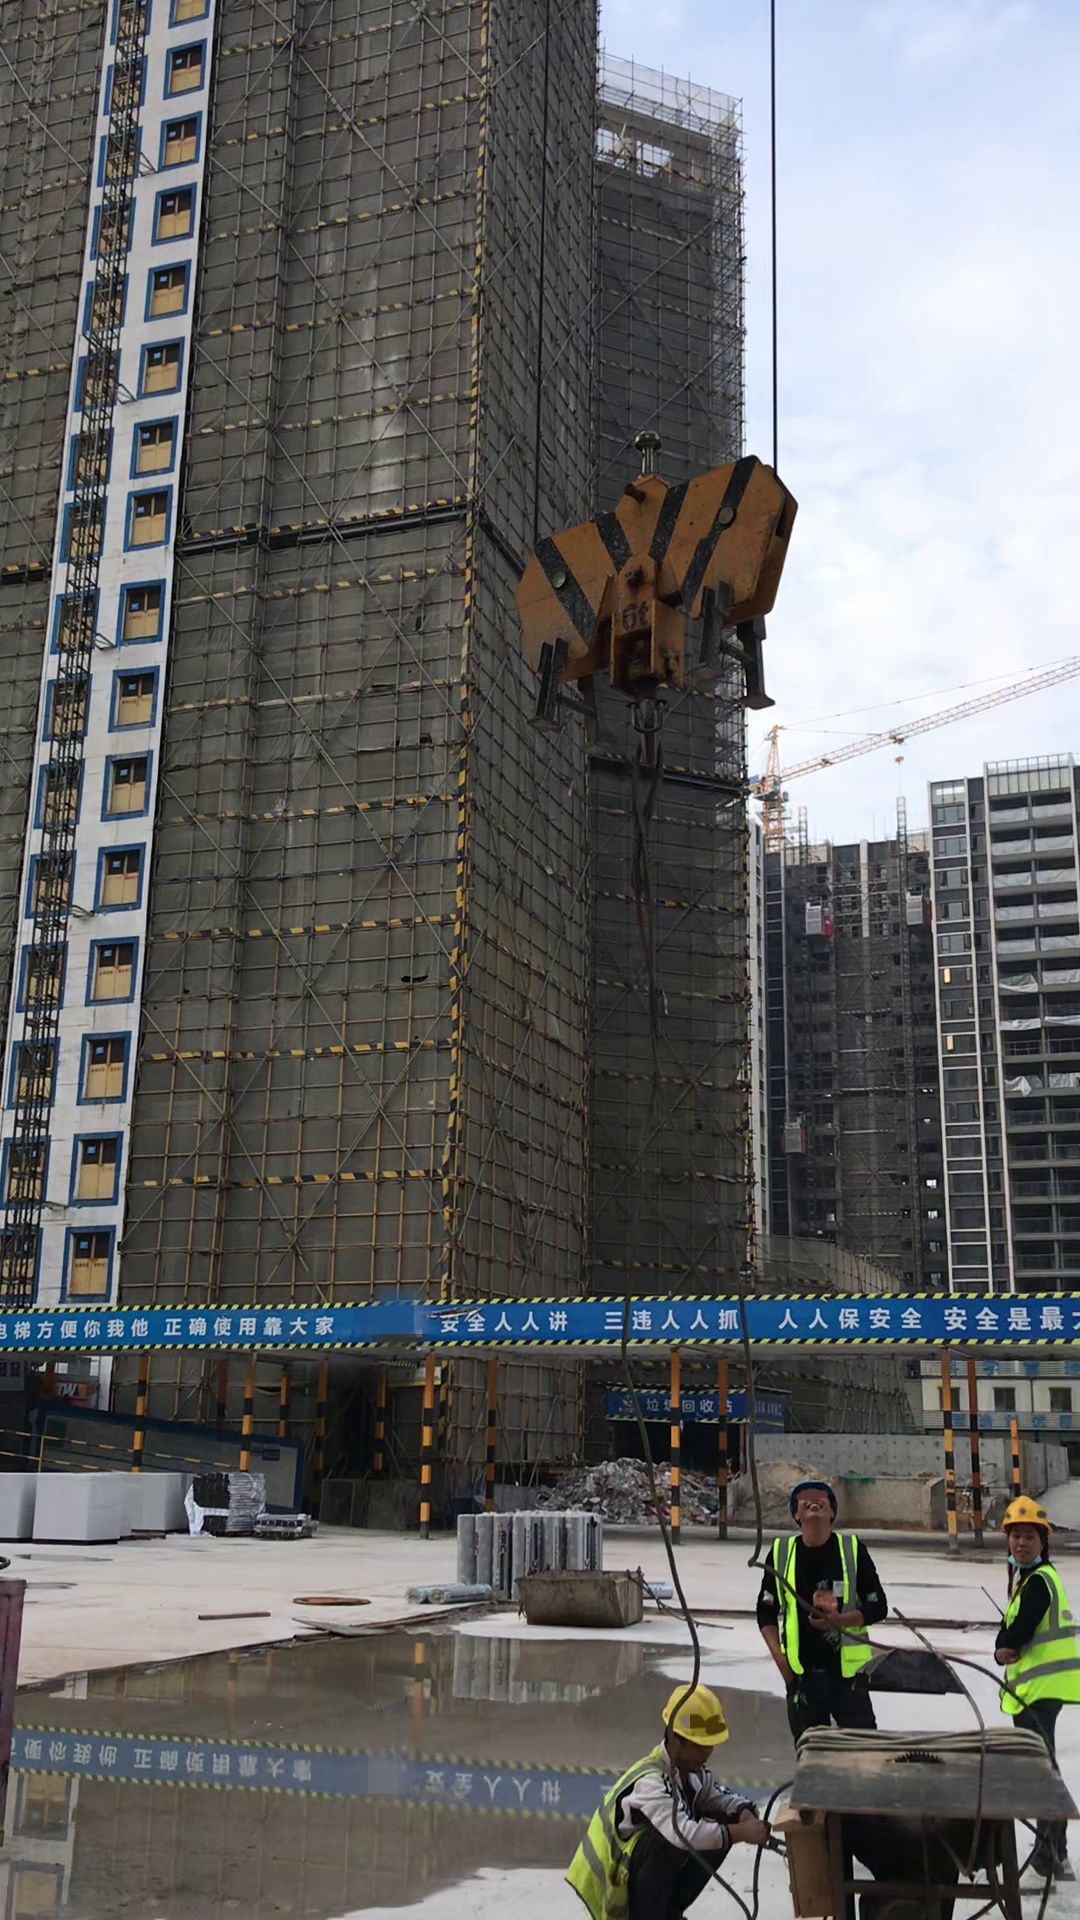brick: (32, 1462, 124, 1554), (124, 1465, 186, 1549), (1, 1471, 32, 1538)
helmet: (663, 1677, 737, 1750), (990, 1486, 1052, 1534), (783, 1464, 840, 1509)
hook: (476, 417, 861, 777)
hopper: (511, 1565, 646, 1632)
person: (570, 1680, 787, 1920), (760, 1459, 883, 1734), (994, 1497, 1079, 1765)
slogan: (19, 1253, 1080, 1387)
vest: (564, 1729, 680, 1920), (766, 1518, 875, 1699), (993, 1550, 1080, 1743)
